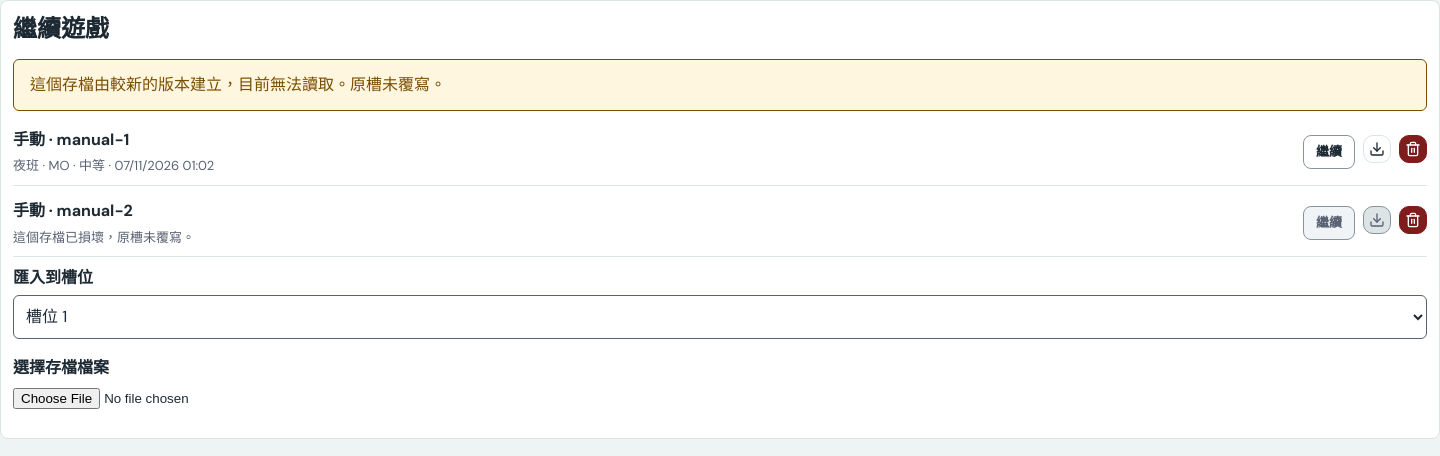
SaveLibrary › continues, confirms delete, and shows a migration failure without a continue button
This screenshot has width=1440, height=456.
Later steps or results of the test are not shown.
Expected: the message with test id "save-message" shows "原槽未覆寫", [30, 74, 446, 95]
Expected: the button with test id "continue-manual-2" is disabled, [1303, 206, 1355, 240]
Click the button with test id "continue-manual-1": (1329, 152) [1303, 135, 1355, 169]
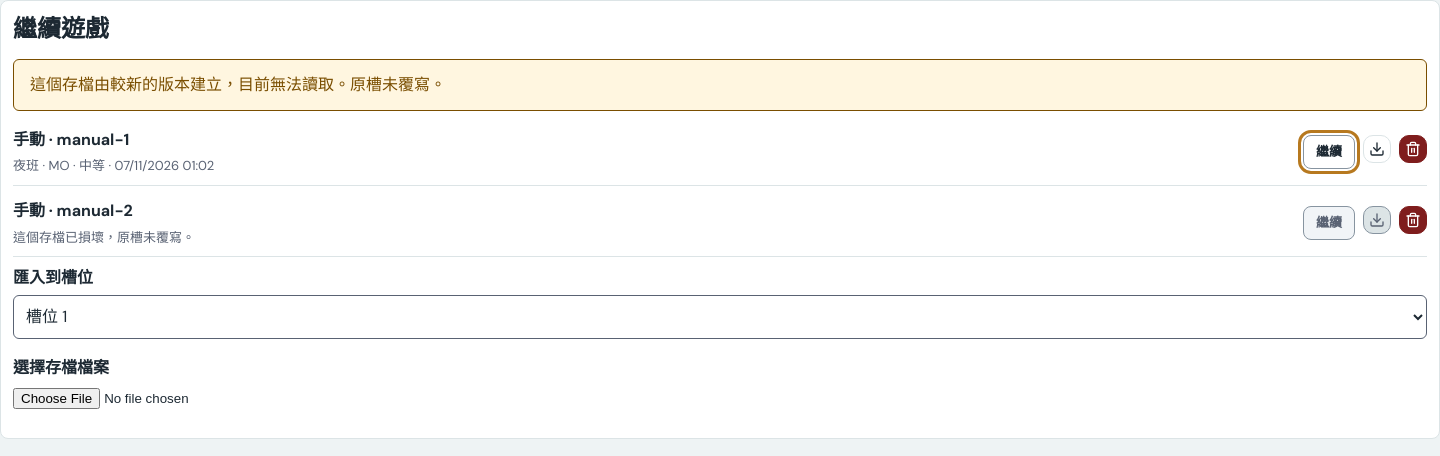
Click the button with test id "delete-manual-1": (1413, 149) [1399, 135, 1427, 163]
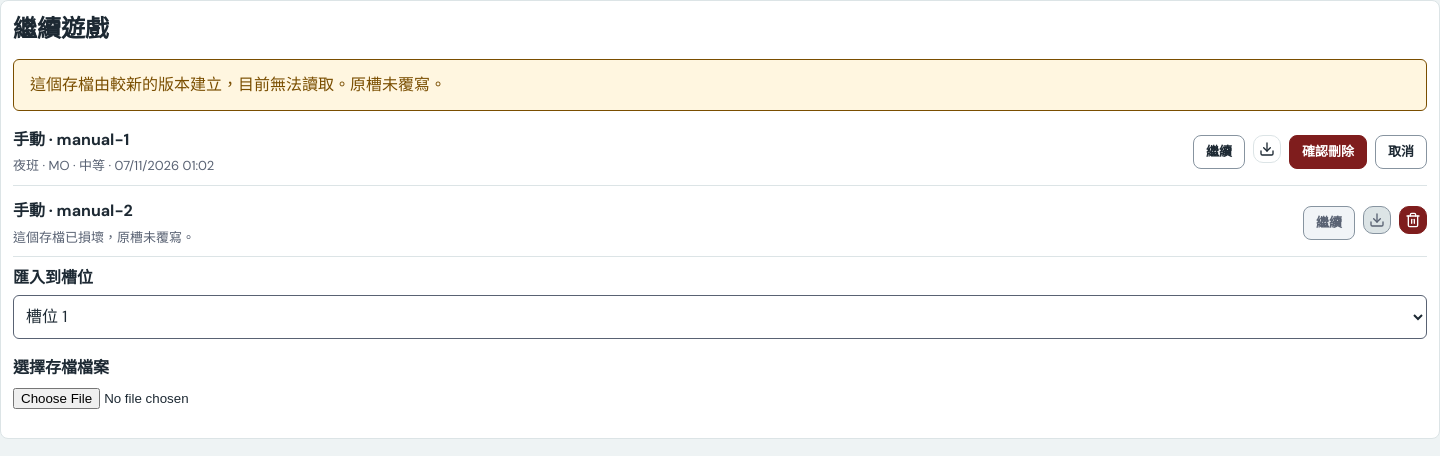
Result: the button with test id "confirm-delete-manual-1" reads "確認刪除" at [1289, 135, 1367, 169]
